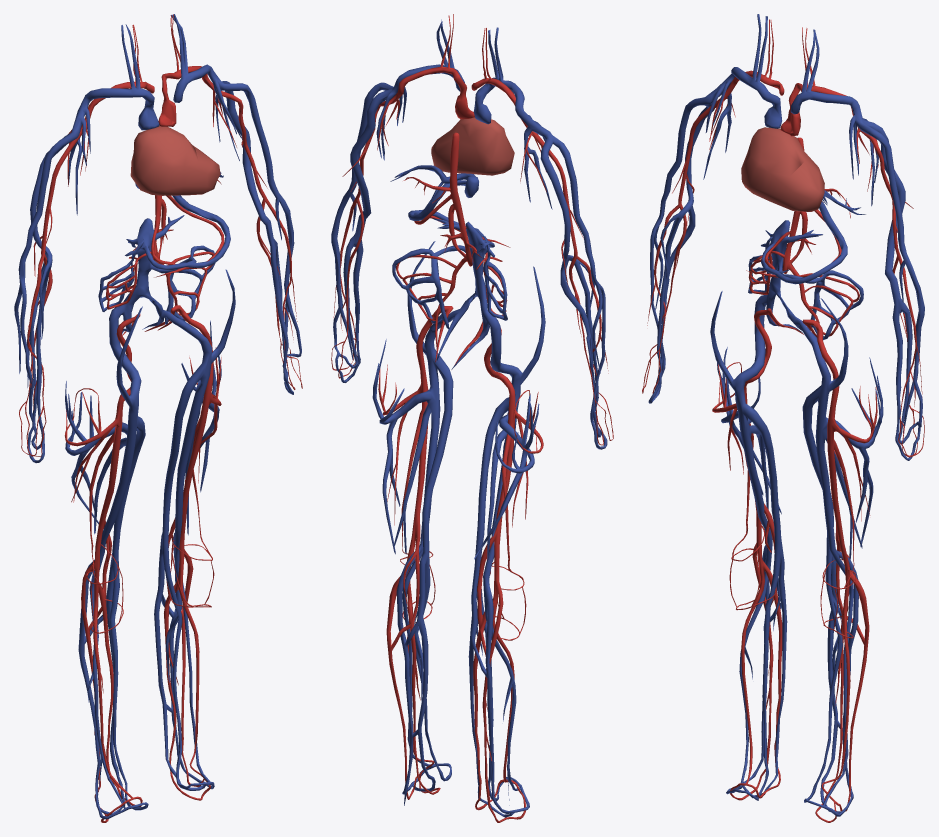
Rendered from pediatric_child_5y_male.cardiovascular.LOD2.glb.
The picture shows the model from 3 angles, left to right: view 1: azimuth 30°, elevation 25°; view 2: azimuth 150°, elevation 25°; view 3: azimuth 330°, elevation 25°; orthographic projection.
Visible parts, largest first — view 1: PEDIATRIC.CHILD_5Y.MALE.CARDIOVASCULAR.BLOOD_IN_LARGE_VEINS, PEDIATRIC.CHILD_5Y.MALE.CARDIOVASCULAR.BLOOD_IN_LARGE_ARTERI, PEDIATRIC.CHILD_5Y.MALE.CARDIOVASCULAR.HEART_WALL; view 2: PEDIATRIC.CHILD_5Y.MALE.CARDIOVASCULAR.BLOOD_IN_LARGE_VEINS, PEDIATRIC.CHILD_5Y.MALE.CARDIOVASCULAR.BLOOD_IN_LARGE_ARTERI, PEDIATRIC.CHILD_5Y.MALE.CARDIOVASCULAR.HEART_WALL; view 3: PEDIATRIC.CHILD_5Y.MALE.CARDIOVASCULAR.BLOOD_IN_LARGE_VEINS, PEDIATRIC.CHILD_5Y.MALE.CARDIOVASCULAR.BLOOD_IN_LARGE_ARTERI, PEDIATRIC.CHILD_5Y.MALE.CARDIOVASCULAR.HEART_WALL.
Part boxes in pixels (x1,y1,x2,y2): PEDIATRIC.CHILD_5Y.MALE.CARDIOVASCULAR.BLOOD_IN_LARGE_VEINS: [14, 14, 301, 819]; PEDIATRIC.CHILD_5Y.MALE.CARDIOVASCULAR.BLOOD_IN_LARGE_ARTERI: [19, 14, 302, 822]; PEDIATRIC.CHILD_5Y.MALE.CARDIOVASCULAR.HEART_WALL: [130, 126, 220, 195]; PEDIATRIC.CHILD_5Y.MALE.CARDIOVASCULAR.BLOOD_IN_LARGE_VEINS: [331, 19, 607, 817]; PEDIATRIC.CHILD_5Y.MALE.CARDIOVASCULAR.BLOOD_IN_LARGE_ARTERI: [331, 14, 613, 822]; PEDIATRIC.CHILD_5Y.MALE.CARDIOVASCULAR.HEART_WALL: [431, 117, 514, 175]; PEDIATRIC.CHILD_5Y.MALE.CARDIOVASCULAR.BLOOD_IN_LARGE_VEINS: [648, 14, 924, 816]; PEDIATRIC.CHILD_5Y.MALE.CARDIOVASCULAR.BLOOD_IN_LARGE_ARTERI: [642, 19, 924, 822]; PEDIATRIC.CHILD_5Y.MALE.CARDIOVASCULAR.HEART_WALL: [741, 127, 824, 211].
Bounding box in the file's own units: 0.3474 × 0.9433 × 0.1177.
